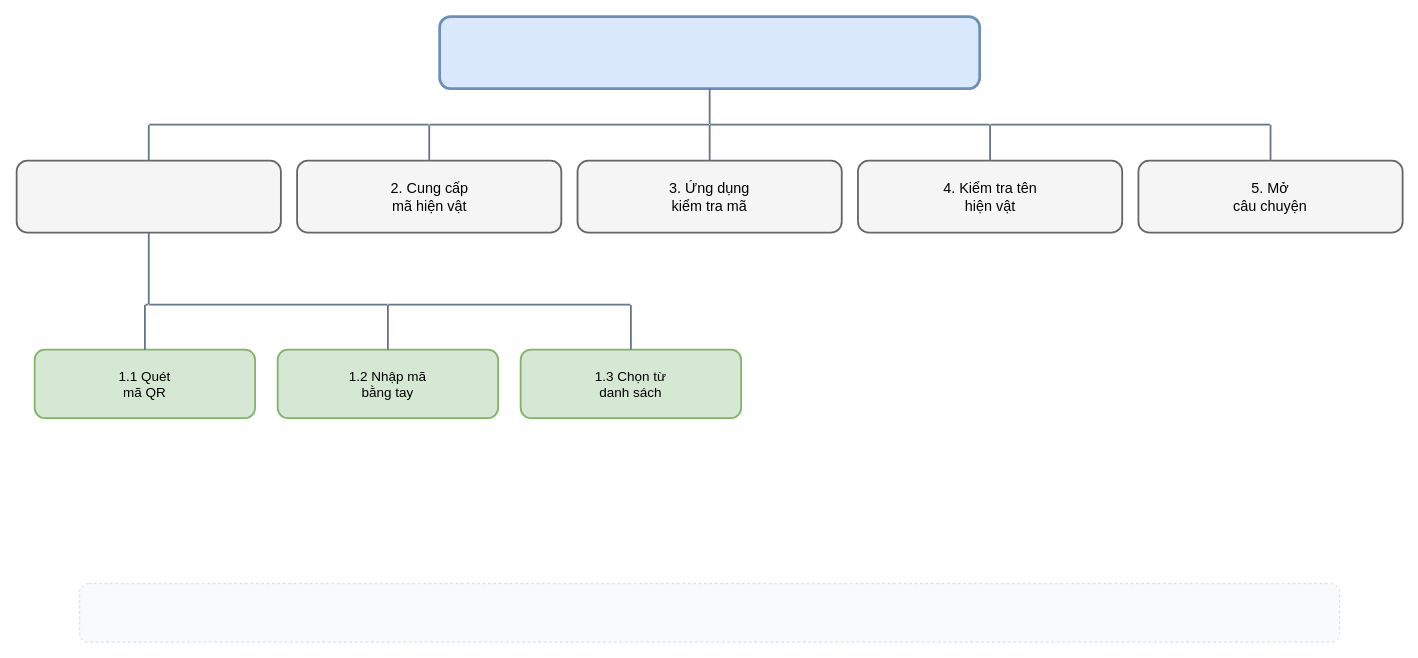
The diagram is 1418 pixels wide and 658 high, and some of its shapes have lost their labels. The shapes that lost their labels are listed below. From the top down, each one's centre as x and y in pixels, then its label:
At (709,52): "0. Mở đúng nội dung của một hiện vật".
At (148,196): "1. Chọn cách mở hiện vật".
At (709,612): "Plan 0: 1 (chọn 1.1, 1.2 hoặc 1.3) → 2 → 3 → 4 → 5; không khớp thì quay lại 1.".
